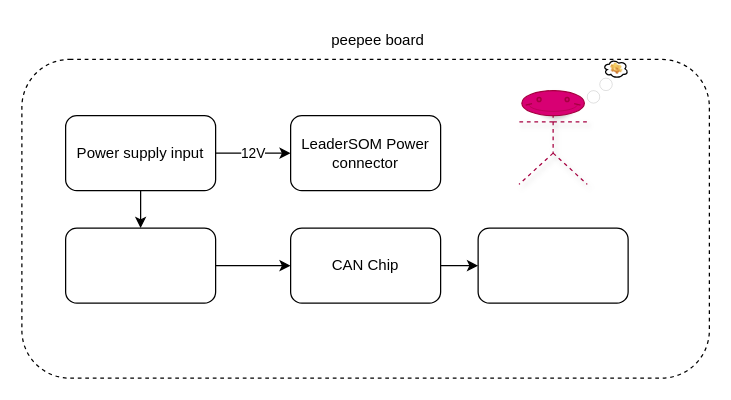
This 731x400 diagram has some shape labels left out. The centre of each missing label's shape, as x and y in pixels:
"12 - 5V isolated buck" goes at pixel 140 265.
"CAN Connector" goes at pixel 552 265.
